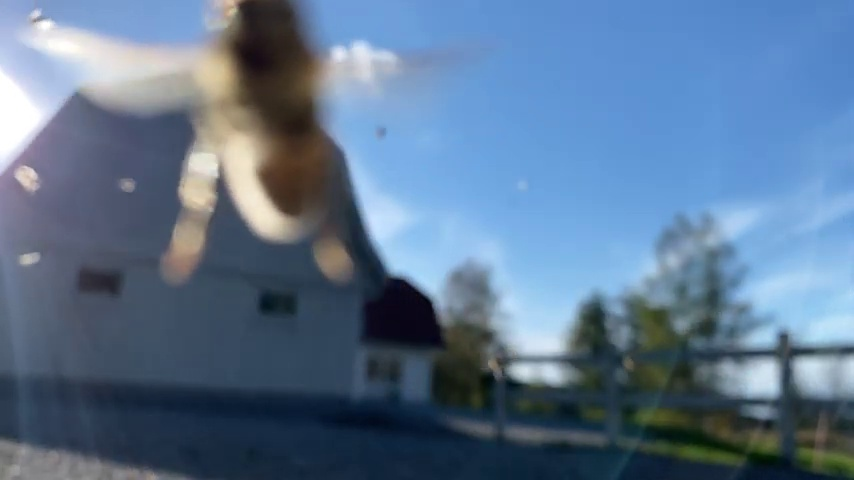insect: (22, 0, 406, 279)
